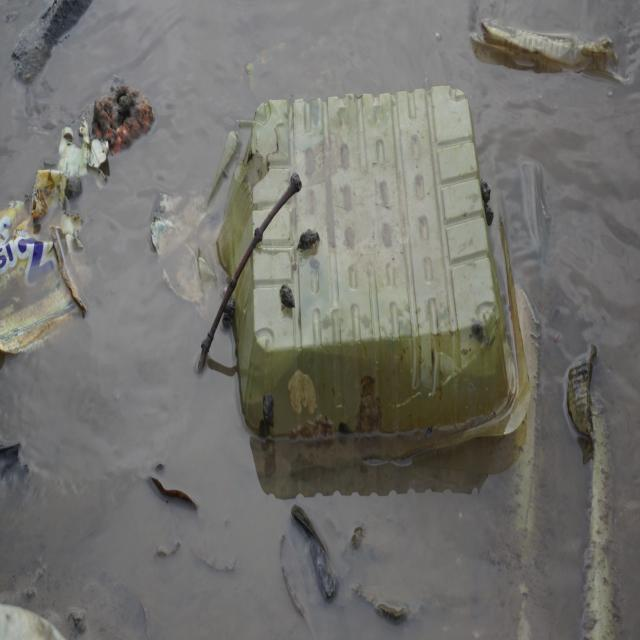Bungkus Makanan: (207, 83, 531, 448), (1, 168, 90, 362)
